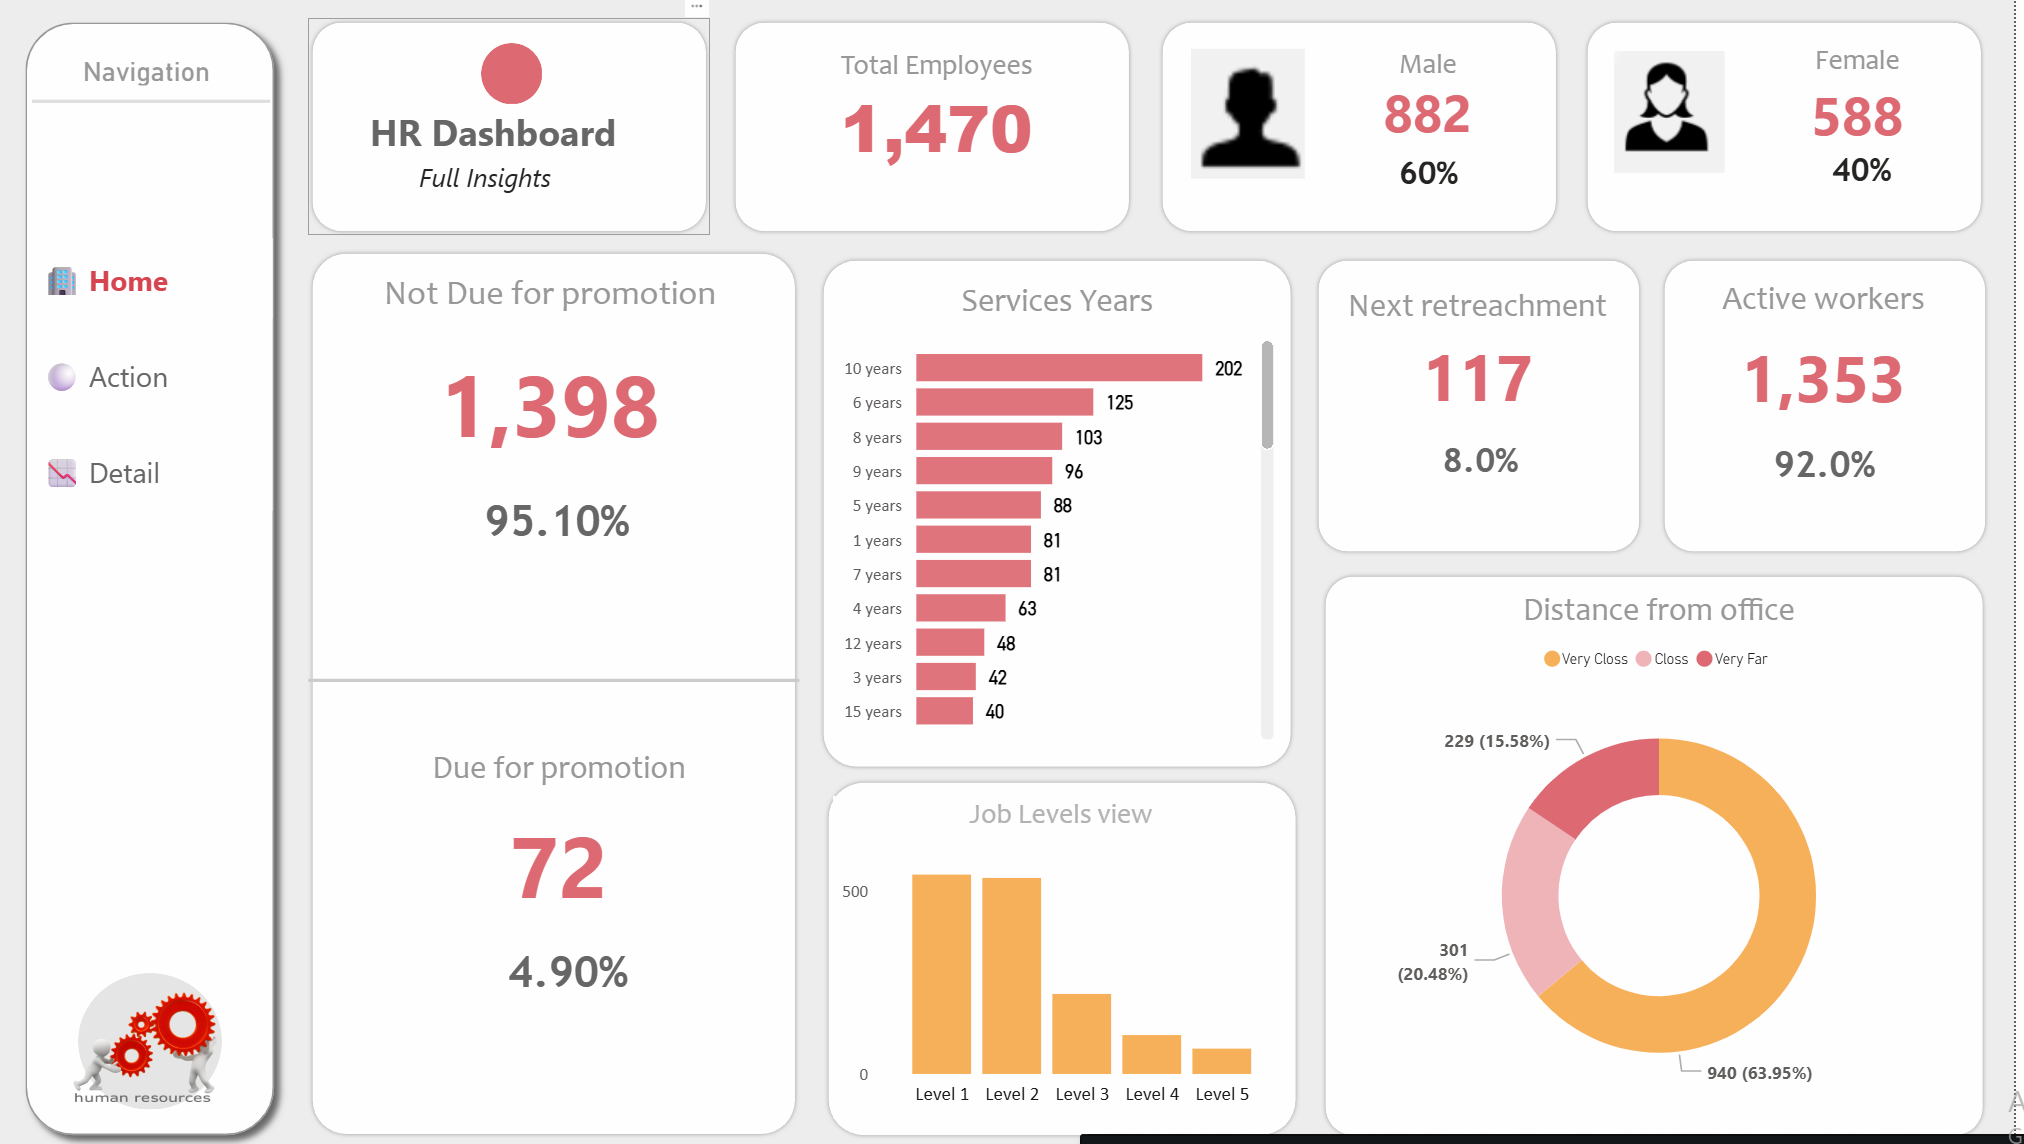

Layout of this report page (visuals, bound fields, positions):
{"tool":"powerbi","page":{"name":"🏢    Home","canvas":[1280,720],"ordinal":0},"visuals":[{"type":"shape","box":[29.9,7.8,173.2,712.3],"z":0},{"type":"shape","box":[1010.9,14.1,251.1,135.9],"z":1000},{"type":"shape","box":[745.7,14.1,251.1,135.9],"z":2000},{"type":"shape","box":[215.2,14.1,251.1,135.9],"z":3000},{"type":"shape","box":[215,158.3,306.7,555],"z":4000},{"type":"shape","box":[71.6,610.1,89.8,85.3],"z":5000},{"type":"shape","box":[534.3,162.9,297.1,321.4],"z":6000},{"type":"shape","box":[537.1,488.6,297.1,225.7],"z":7000},{"type":"shape","box":[847.1,360,415.7,354.3],"z":8000},{"type":"textbox","title":"HR Dashboard","box":[248.9,70.7,179.3,34.8],"z":9000},{"type":"shape","box":[323.3,30,38.3,38.3],"z":10000},{"type":"card","fields":{"Values":["HR Table.Percentage Male"]},"box":[888,97.8,53.3,26.1],"z":11000},{"type":"card","title":"Female","fields":{"Values":["HR Table.Total Female"]},"box":[1137,29.3,90.2,68.5],"z":12000},{"type":"card","fields":{"Values":["HR Table.Percentage Female"]},"box":[1151.4,92.9,67.1,34.3],"z":13000},{"type":"card","title":"Due for promotion","fields":{"Values":["HR Table.Total Due for Promotion"]},"box":[285,470,173.3,118.3],"z":14000},{"type":"clusteredBarChart","title":"Services Years","fields":{"Y":["CountNonNull(HR Table.Total working Years)"],"Category":["HR Table.Total working Years"]},"box":[542.9,178.6,280,291.4],"z":15000},{"type":"clusteredColumnChart","title":"Job Levels view","fields":{"Y":["CountNonNull(HR Table.Job Level)"],"Category":["HR Table.Job Level"]},"box":[542.9,500,284.3,201.4],"z":16000},{"type":"donutChart","title":"Distance from office","fields":{"Category":["HR Table.Distance from office"],"Y":["CountNonNull(HR Table.Distance from office)"]},"box":[865.7,371.4,384.3,330],"z":17000},{"type":"shape","box":[479.3,14.1,251.1,135.9],"z":18000},{"type":"textbox","box":[279.3,97.8,101.1,34.8],"z":19000},{"type":"card","title":"Total Employees","fields":{"Values":["Sum(Sheet1.EmployeeCount)"]},"box":[521.7,32.6,171.7,82.6],"z":20000},{"type":"image","box":[761.4,25.7,81.4,97.1],"z":21000},{"type":"card","title":"Male","fields":{"Values":["HR Table.Total Male"]},"box":[858.7,31.5,110.9,66.3],"z":22000},{"type":"image","box":[1020,30,88.6,85.7],"z":23000},{"type":"card","fields":{"Values":["HR Table.Percentage Not due for promotion"]},"box":[318.3,305,105,46.7],"z":24000},{"type":"card","fields":{"Values":["HR Table.Percentage due for promotion"]},"box":[332.9,588.6,90,42.9],"z":25000},{"type":"shape","box":[215,421.7,306.7,11.7],"z":26000},{"type":"card","title":"Not Due for promotion","fields":{"Values":["HR Table.Total Not Due for Promotion"]},"box":[252.9,172.9,227.1,138.6],"z":27000},{"type":"shape","box":[842.9,162.9,205.7,187.1],"z":28000},{"type":"shape","box":[1058.6,162.9,205.7,187.1],"z":29000},{"type":"card","title":"Active workers","fields":{"Values":["HR Table.Total Active Workers"]},"box":[1084.3,177.1,152.9,97.1],"z":30000},{"type":"card","fields":{"Values":["HR Table.Percentage Active workers"]},"box":[1108.6,274.3,105.7,37.1],"z":31000},{"type":"card","title":"Next retreachment","fields":{"Values":["HR Table.Next Retrenchment Count_"]},"box":[858.6,181.4,172.9,87.1],"z":32000},{"type":"card","fields":{"Values":["HR Table.Percentage Next Retrenchment"]},"box":[914.3,275.7,65.7,30],"z":33000},{"type":"shape","box":[42.9,60,148.6,12.9],"z":34000},{"type":"textbox","title":"Navigation","box":[70,37.1,91.4,27.1],"z":35000},{"type":"pageNavigator","title":"Navvigation","box":[43,151.7,150,170],"z":36000},{"type":"image","box":[54.7,601.3,116,112.6],"z":37000}]}

Visuals, with their boxes on the page's 1280x720 design canvas (x1, y1, x2, y2). These are canvas units, not pixel positions in the 2024x1144 screenshot, which may show the page scaled, cropped or inside an application window:
shape: crop(30, 8, 203, 720)
shape: crop(1011, 14, 1262, 150)
shape: crop(746, 14, 997, 150)
shape: crop(215, 14, 466, 150)
shape: crop(215, 158, 522, 713)
shape: crop(72, 610, 161, 695)
shape: crop(534, 163, 831, 484)
shape: crop(537, 489, 834, 714)
shape: crop(847, 360, 1263, 714)
"HR Dashboard" textbox: crop(249, 71, 428, 106)
shape: crop(323, 30, 362, 68)
card - HR Table.Percentage Male: crop(888, 98, 941, 124)
"Female" card: crop(1137, 29, 1227, 98)
card - HR Table.Percentage Female: crop(1151, 93, 1218, 127)
"Due for promotion" card: crop(285, 470, 458, 588)
"Services Years" clusteredBarChart: crop(543, 179, 823, 470)
"Job Levels view" clusteredColumnChart: crop(543, 500, 827, 701)
"Distance from office" donutChart: crop(866, 371, 1250, 701)
shape: crop(479, 14, 730, 150)
textbox: crop(279, 98, 380, 133)
"Total Employees" card: crop(522, 33, 693, 115)
image: crop(761, 26, 843, 123)
"Male" card: crop(859, 32, 970, 98)
image: crop(1020, 30, 1109, 116)
card - HR Table.Percentage Not due for promotion: crop(318, 305, 423, 352)
card - HR Table.Percentage due for promotion: crop(333, 589, 423, 632)
shape: crop(215, 422, 522, 433)
"Not Due for promotion" card: crop(253, 173, 480, 312)
shape: crop(843, 163, 1049, 350)
shape: crop(1059, 163, 1264, 350)
"Active workers" card: crop(1084, 177, 1237, 274)
card - HR Table.Percentage Active workers: crop(1109, 274, 1214, 311)
"Next retreachment" card: crop(859, 181, 1032, 268)
card - HR Table.Percentage Next Retrenchment: crop(914, 276, 980, 306)
shape: crop(43, 60, 192, 73)
"Navigation" textbox: crop(70, 37, 161, 64)
"Navvigation" pageNavigator: crop(43, 152, 193, 322)
image: crop(55, 601, 171, 714)
